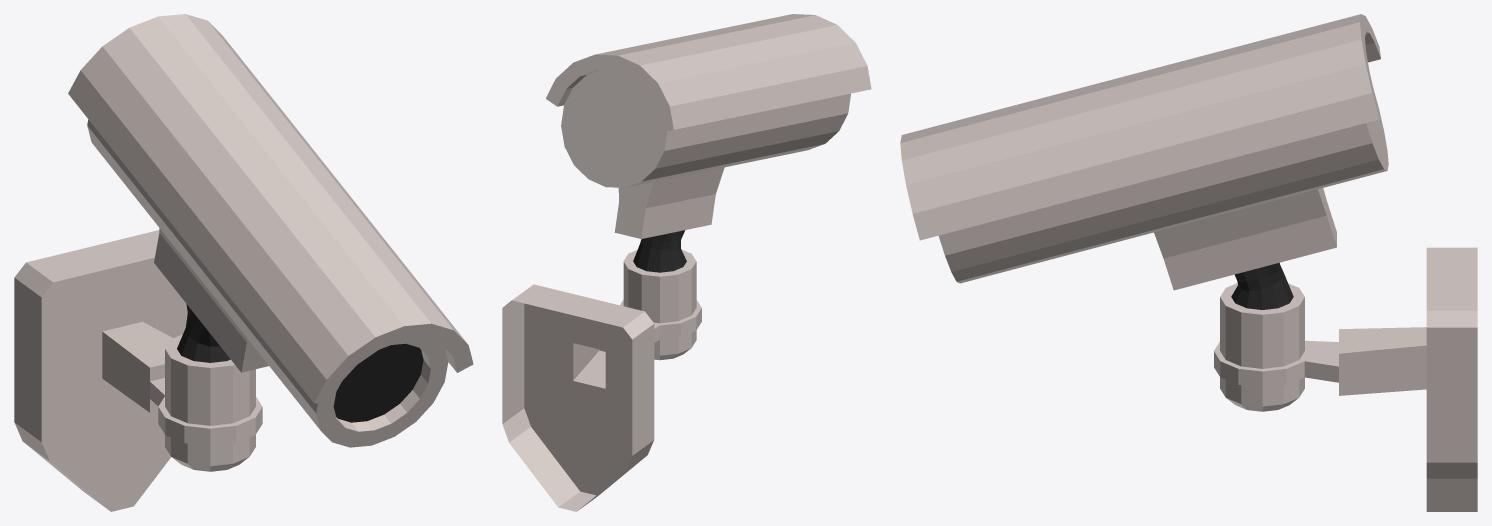
Rendered from Security Cam.fbx.
3 views of the same model, side by side, from view 1: azimuth 30°, elevation 25°; view 2: azimuth 150°, elevation 25°; view 3: azimuth 270°, elevation 25° (orthographic). The views are drawn at different scales.
Visible parts, largest first — view 1: Plane.010, Plane.009; view 2: Plane.010, Plane.009; view 3: Plane.010, Plane.009.
Part boxes in pixels (bbox=[...]): Plane.010: bbox=[68, 14, 473, 447]; Plane.009: bbox=[14, 230, 262, 511]; Plane.010: bbox=[546, 14, 871, 272]; Plane.009: bbox=[502, 249, 701, 511]; Plane.010: bbox=[900, 14, 1388, 309]; Plane.009: bbox=[1214, 247, 1477, 511].
Bounding box in the file's own units: 7.6 × 23.3 × 25.16.
